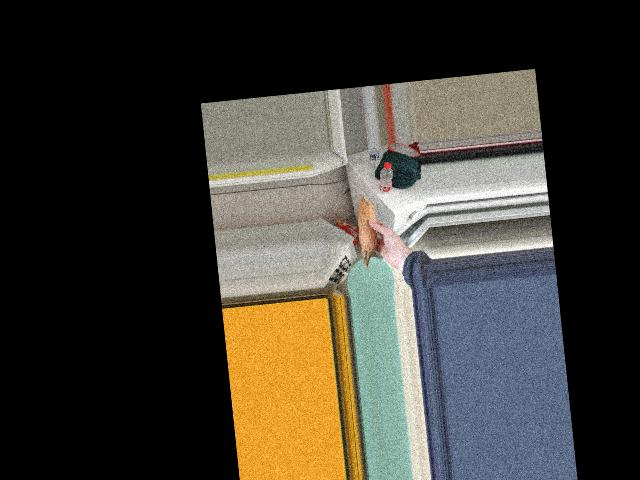sweet_potato: (356, 204, 385, 266)
